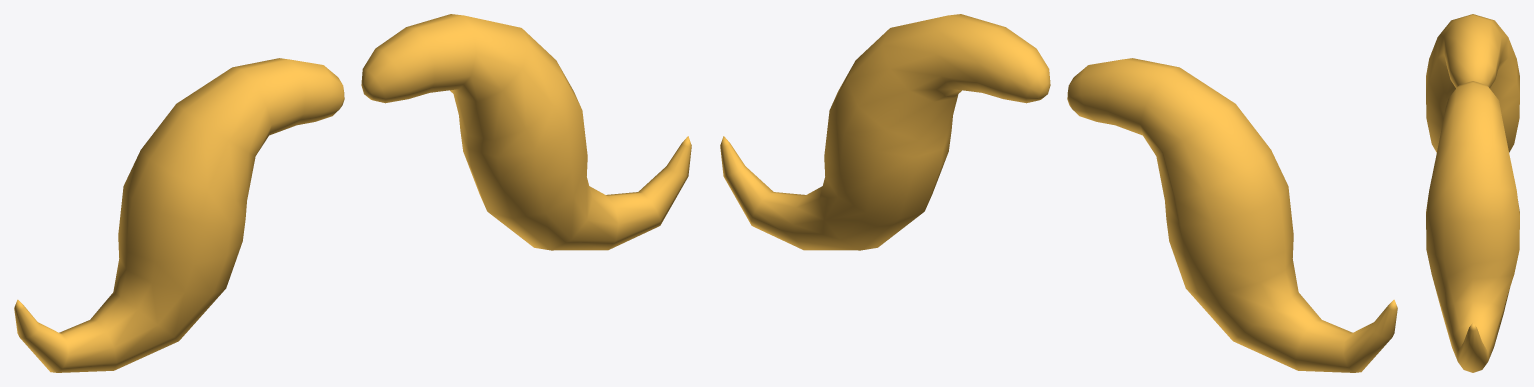
Rendered from Beard_06_05.fbx.
3 renders of one model, left to right at view 1: azimuth 30°, elevation 25°; view 2: azimuth 150°, elevation 25°; view 3: azimuth 270°, elevation 25°, orthographic. The views are drawn at different scales.
Parts seen in each view (by area): view 1: Beard_06_05; view 2: Beard_06_05; view 3: Beard_06_05.
Part boxes in pixels (x1=…): Beard_06_05: x1=14, y1=14, x2=691, y2=372; Beard_06_05: x1=720, y1=14, x2=1397, y2=372; Beard_06_05: x1=1426, y1=14, x2=1519, y2=372.
Size of the model in its own units: 27.87 by 10.5 by 4.29.
